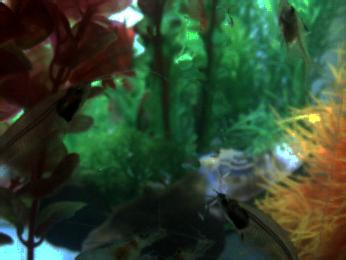X-ray fish: (275, 1, 323, 79)
glassfish: (1, 81, 93, 181), (215, 192, 301, 260)
siberian prawn: (71, 226, 170, 260)
